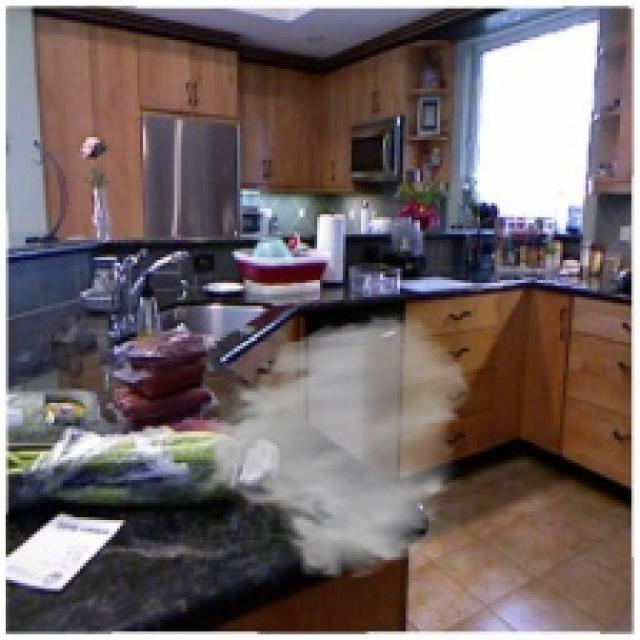smoke: (192, 311, 474, 583)
